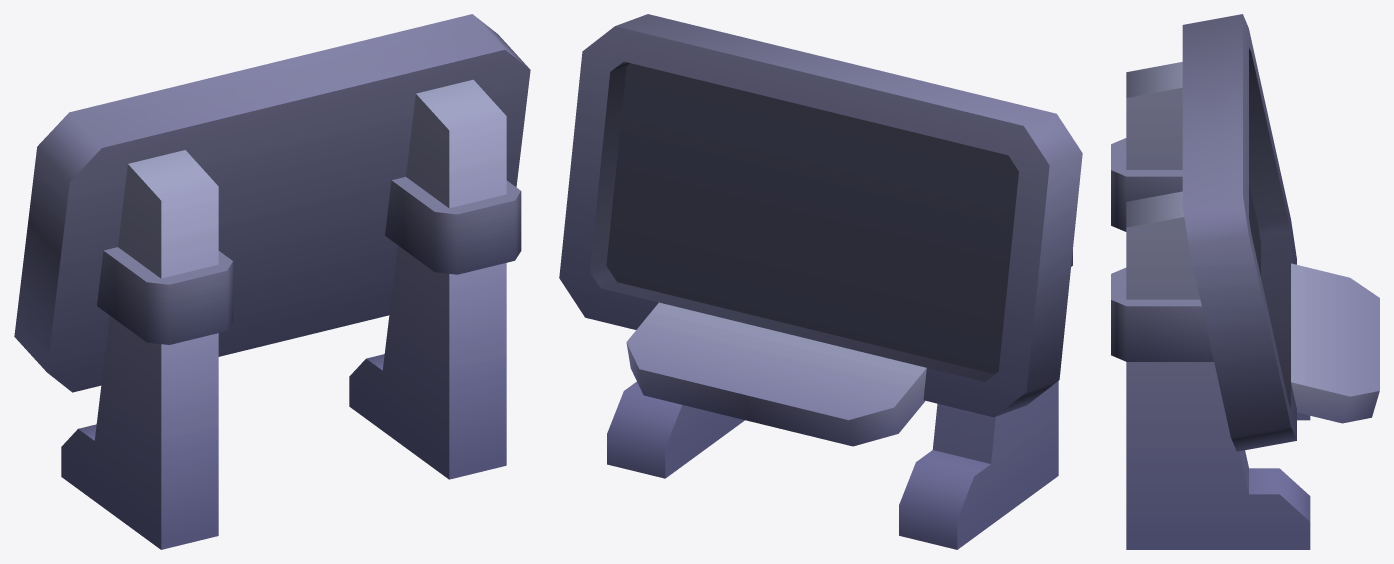
Rendered from kenney-conveyor-screen-panel-wide.glb.
3 renders of one model, left to right at view 1: azimuth 30°, elevation 25°; view 2: azimuth 150°, elevation 25°; view 3: azimuth 270°, elevation 25°, orthographic. The views are drawn at different scales.
Parts seen in each view (by area): view 1: screen-panel-wide; view 2: screen-panel-wide; view 3: screen-panel-wide.
Part boxes in pixels (bbox=[...]): screen-panel-wide: bbox=[14, 14, 530, 549]; screen-panel-wide: bbox=[559, 14, 1082, 549]; screen-panel-wide: bbox=[1111, 14, 1379, 549].
Bounding box in the file's own units: 1.2 × 0.9914 × 0.6572.
1 material, 1 textured.
